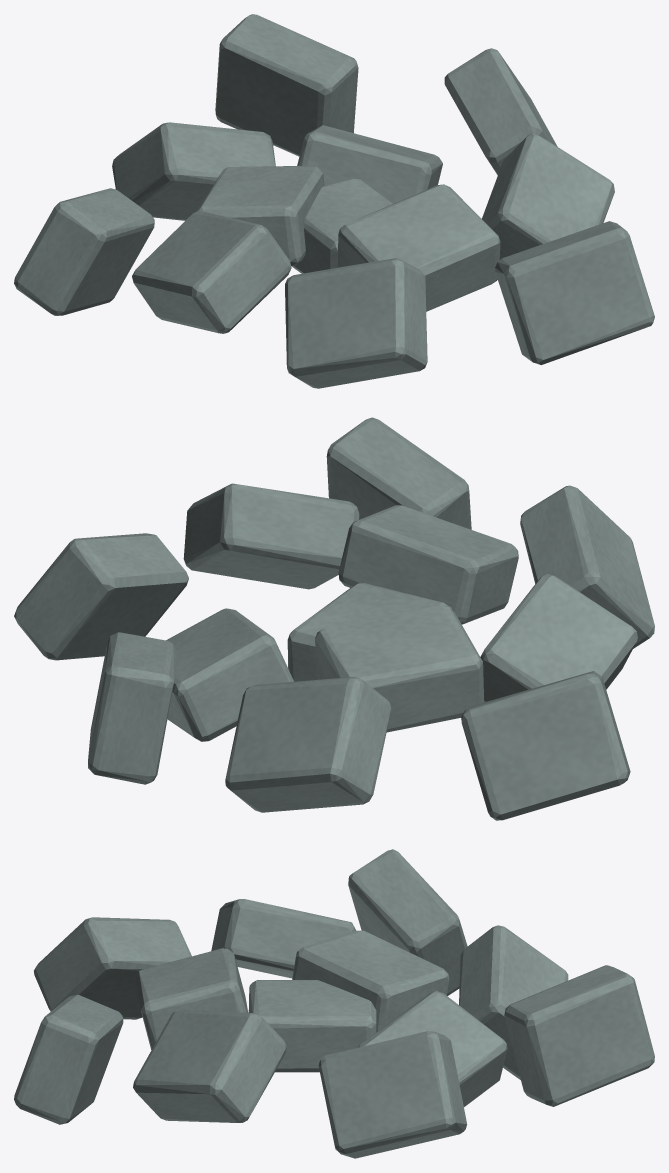
File: SM_tower_rubble_LOD2.fbx
3 views of the same model, one above another, from view 1: azimuth 30°, elevation 25°; view 2: azimuth 150°, elevation 25°; view 3: azimuth 270°, elevation 25° (orthographic). The views are drawn at different scales.
Parts seen in each view (by area): view 1: SM_tower_rubble_LOD2; view 2: SM_tower_rubble_LOD2; view 3: SM_tower_rubble_LOD2.
Boxes of the visible parts, x1=… form: SM_tower_rubble_LOD2: x1=14, y1=14, x2=654, y2=388; SM_tower_rubble_LOD2: x1=14, y1=417, x2=654, y2=820; SM_tower_rubble_LOD2: x1=14, y1=849, x2=654, y2=1158.
Size of the model in its own units: 1.62 by 1.74 by 0.4561.
